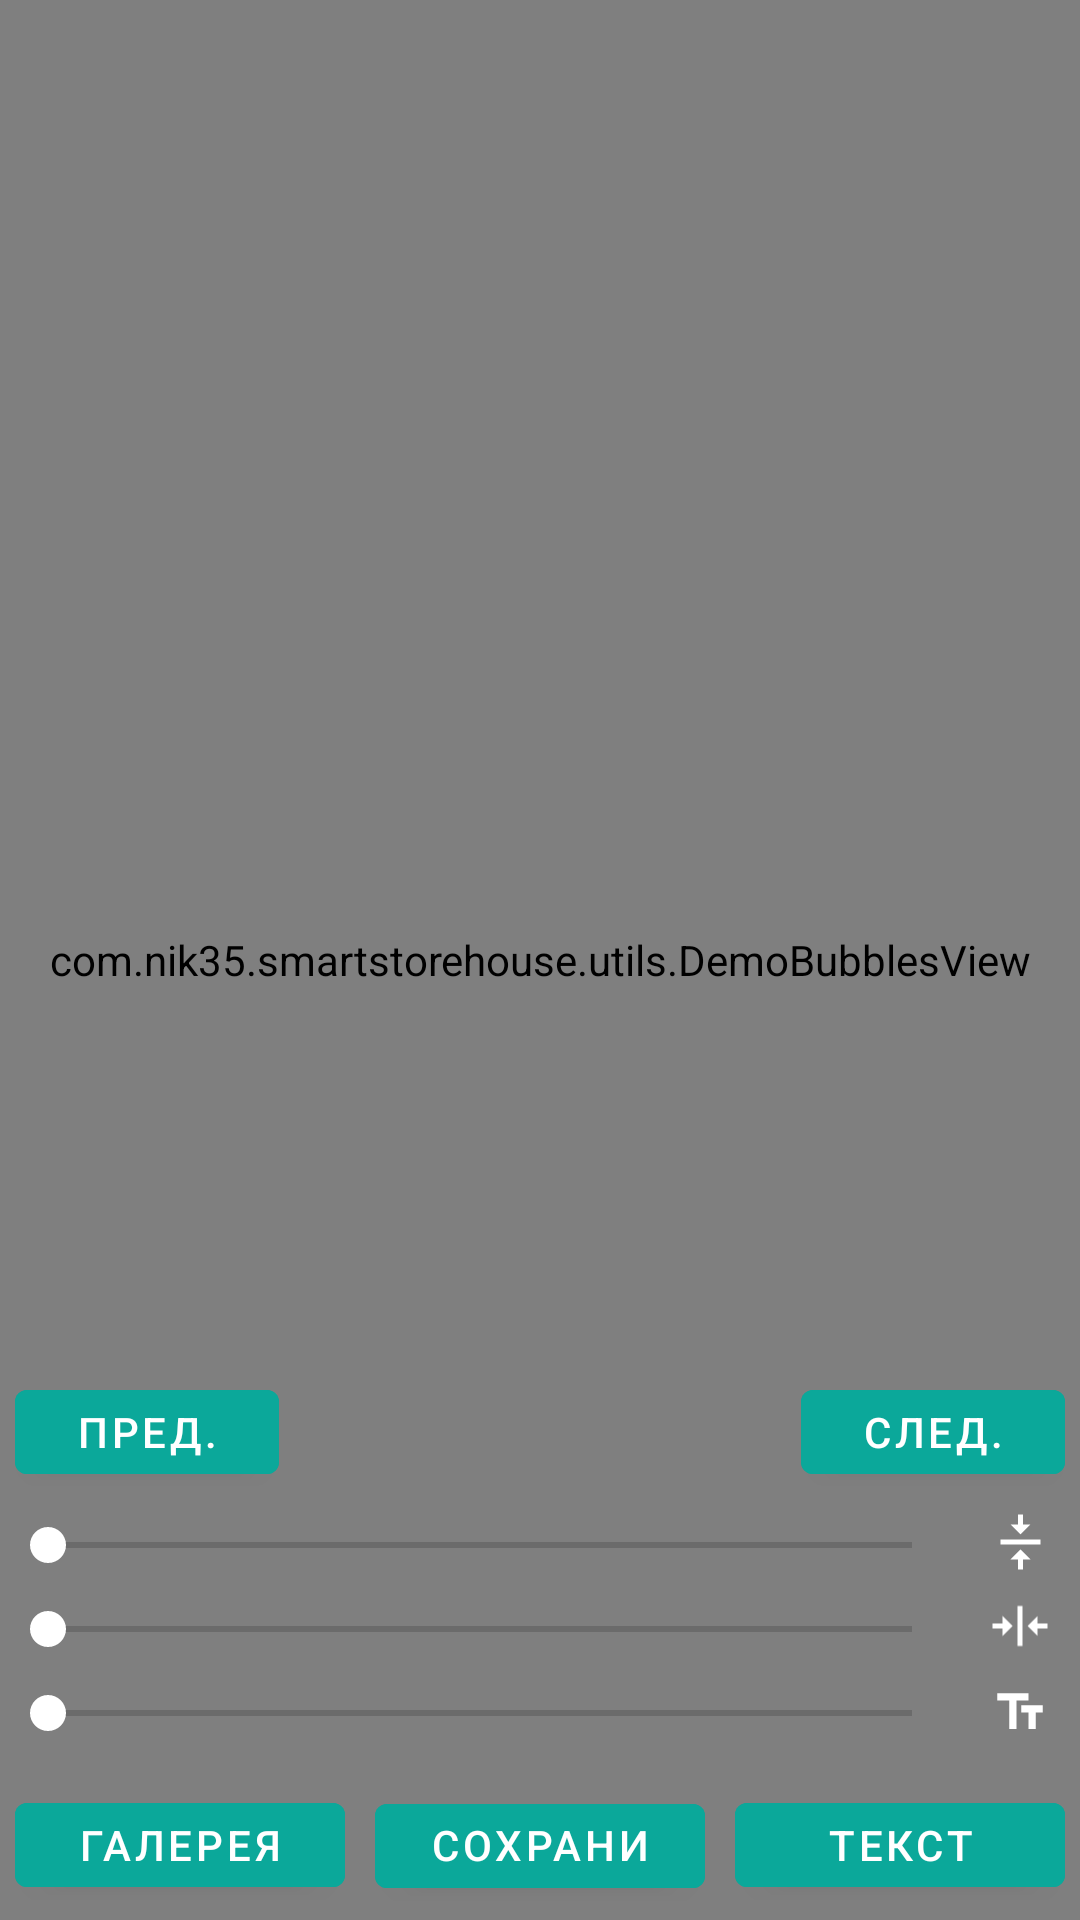

Where to tap for icons on this 1080w x 1920h app screen, as (x=x, y=y):
text fields: (x=1020, y=1711)
